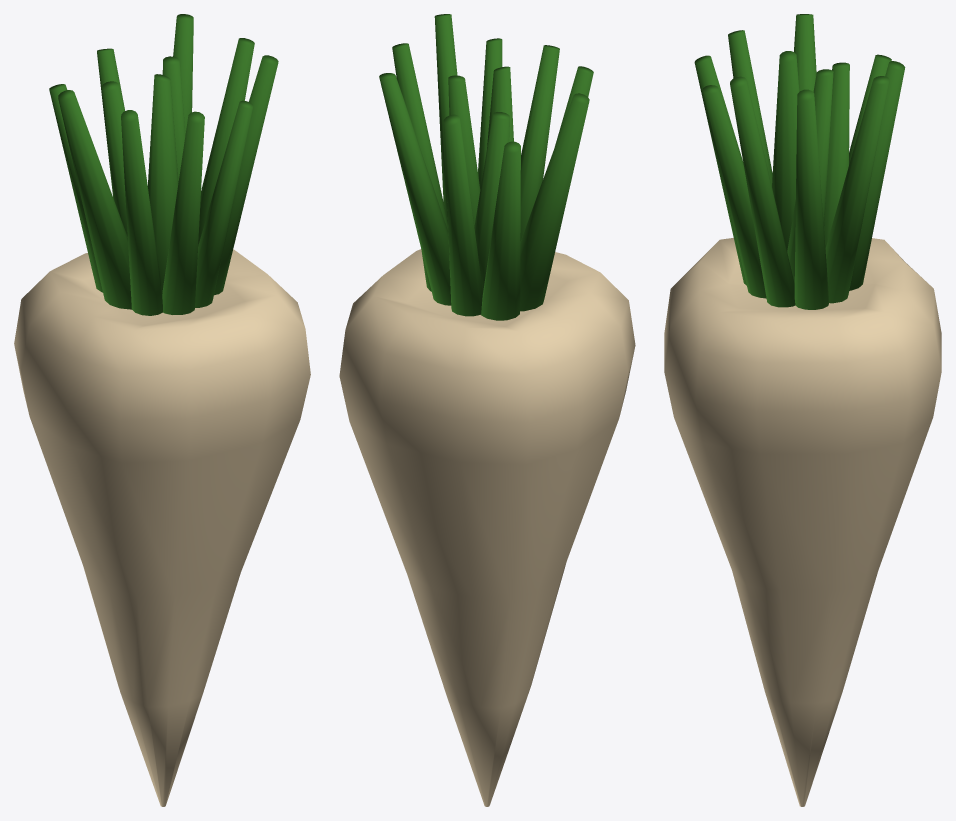
Rendered from Parsnip.fbx.
3 views of the same model, side by side, from view 1: azimuth 30°, elevation 25°; view 2: azimuth 150°, elevation 25°; view 3: azimuth 270°, elevation 25° (orthographic).
Visible parts, largest first — view 1: Parsnip; view 2: Parsnip; view 3: Parsnip.
Boxes of the visible parts, bbox=[...] form: Parsnip: bbox=[14, 14, 310, 806]; Parsnip: bbox=[339, 14, 635, 806]; Parsnip: bbox=[664, 14, 941, 806].
Size of the model in its own units: 94.69 by 288 by 94.64.
